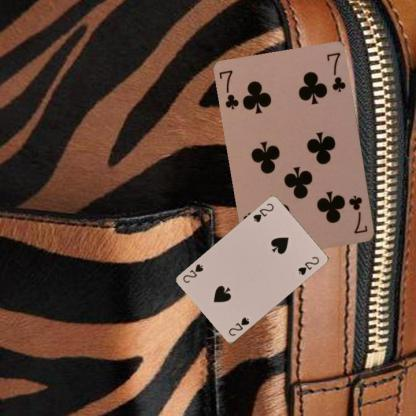2s: (226, 314, 251, 338), (250, 201, 275, 224)
7c: (216, 68, 240, 112), (347, 192, 370, 235)
